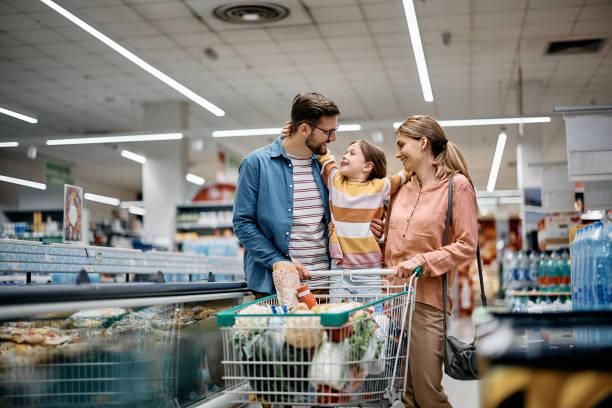Person: (383, 116, 476, 407), (234, 93, 339, 295), (319, 140, 408, 268), (329, 277, 380, 301)
article: (513, 250, 528, 289), (298, 285, 315, 308), (538, 253, 548, 291)
